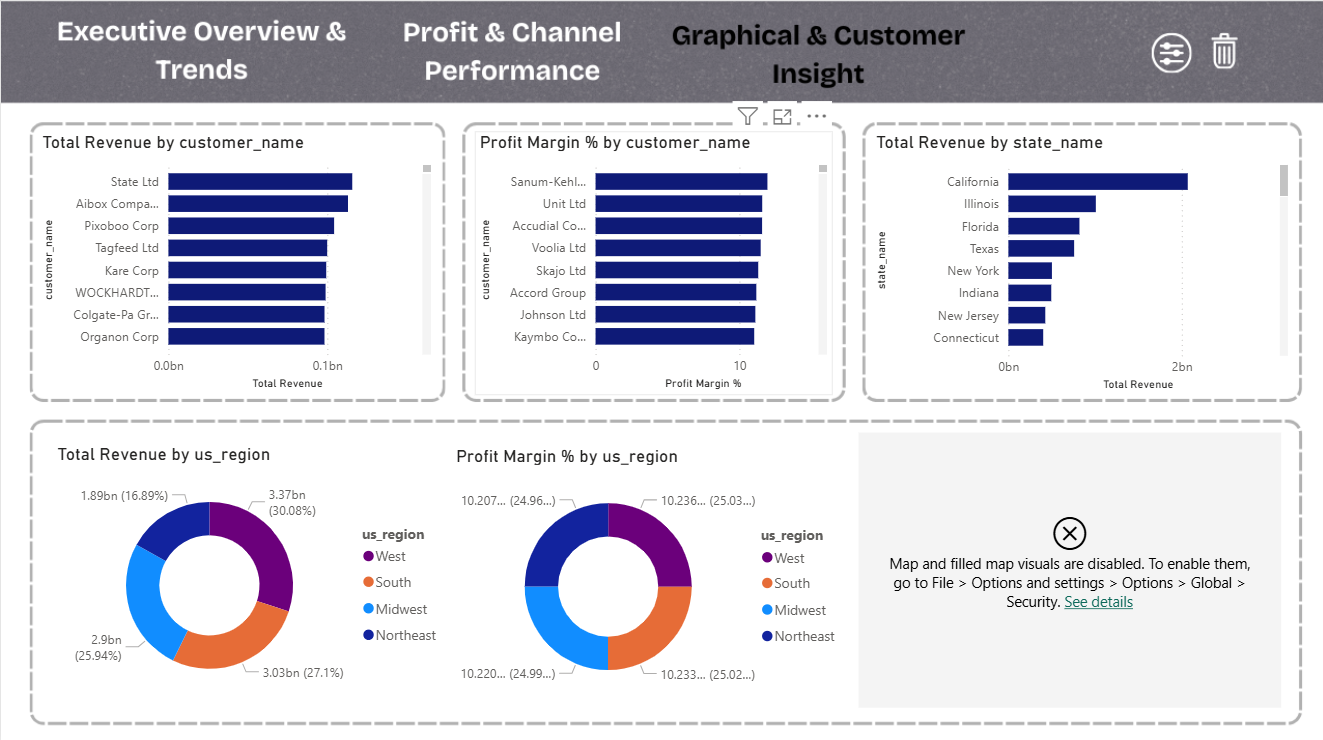

The dashboard page shown, as its layout file describes it:
{"tool":"powerbi","page":{"name":"Customer_Insight","canvas":[1280,720],"ordinal":3},"visuals":[{"type":"actionButton","box":[49.5,12.1,296.8,79.6],"z":0},{"type":"actionButton","box":[377.6,12.1,235.3,79.6],"z":1000},{"type":"barChart","fields":{"Category":["Sales_data(EDA Exported).customer_name"],"Y":["Customer Summary.Total Revenue"]},"box":[35,126.7,384.9,254.6],"z":2000},{"type":"barChart","fields":{"Category":["Sales_data(EDA Exported).state_name"],"Y":["Customer Summary.Total Revenue"]},"box":[839.7,126.7,407.8,255.8],"z":3000},{"type":"barChart","fields":{"Category":["Sales_data(EDA Exported).customer_name"],"Y":["Customer Summary.Profit Margin %"]},"box":[457.2,126.7,345,254.6],"z":4000},{"type":"donutChart","fields":{"Category":["Sales_data(EDA Exported).us_region"],"Y":["Customer Summary.Total Revenue"]},"box":[49.5,428.3,384.9,254.6],"z":5000},{"type":"donutChart","fields":{"Category":["Sales_data(EDA Exported).us_region"],"Y":["Customer Summary.Profit Margin %"]},"box":[434.3,429.5,384.9,254.6],"z":6000},{"type":"map","fields":{"Category":["Sales_data(EDA Exported).state"],"Size":["Customer Summary.Total Profit"]},"box":[827.6,417.4,407.8,265.4],"z":7000}]}

Visuals, with their boxes in screenshot pixels (x1, y1, x2, y2), scaled from the page's 1280x720 canvas onto the 1323x740 screenshot:
actionButton: 51:12:358:94
actionButton: 390:12:633:94
barChart - Sales_data(EDA Exported).customer_name x Customer Summary.Total Revenue: 36:130:434:392
barChart - Sales_data(EDA Exported).state_name x Customer Summary.Total Revenue: 868:130:1289:393
barChart - Sales_data(EDA Exported).customer_name x Customer Summary.Profit Margin %: 473:130:829:392
donutChart - Sales_data(EDA Exported).us_region x Customer Summary.Total Revenue: 51:440:449:702
donutChart - Sales_data(EDA Exported).us_region x Customer Summary.Profit Margin %: 449:441:847:703
map - Sales_data(EDA Exported).state x Customer Summary.Total Profit: 855:429:1277:702
